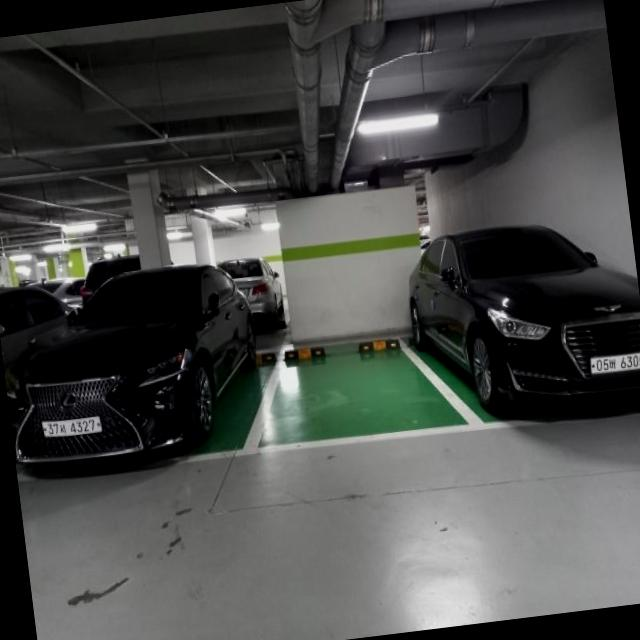car: (0, 254, 271, 483), (398, 202, 640, 434)
free: (255, 318, 426, 453)
